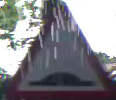Speed Breaker ahead: (5, 0, 115, 99)
